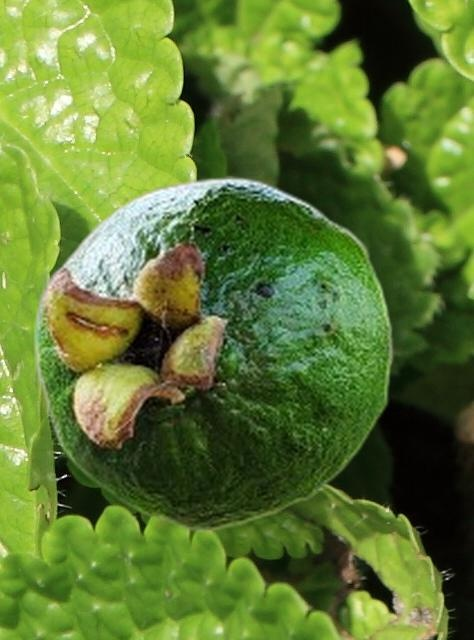guava: (32, 176, 394, 532)
